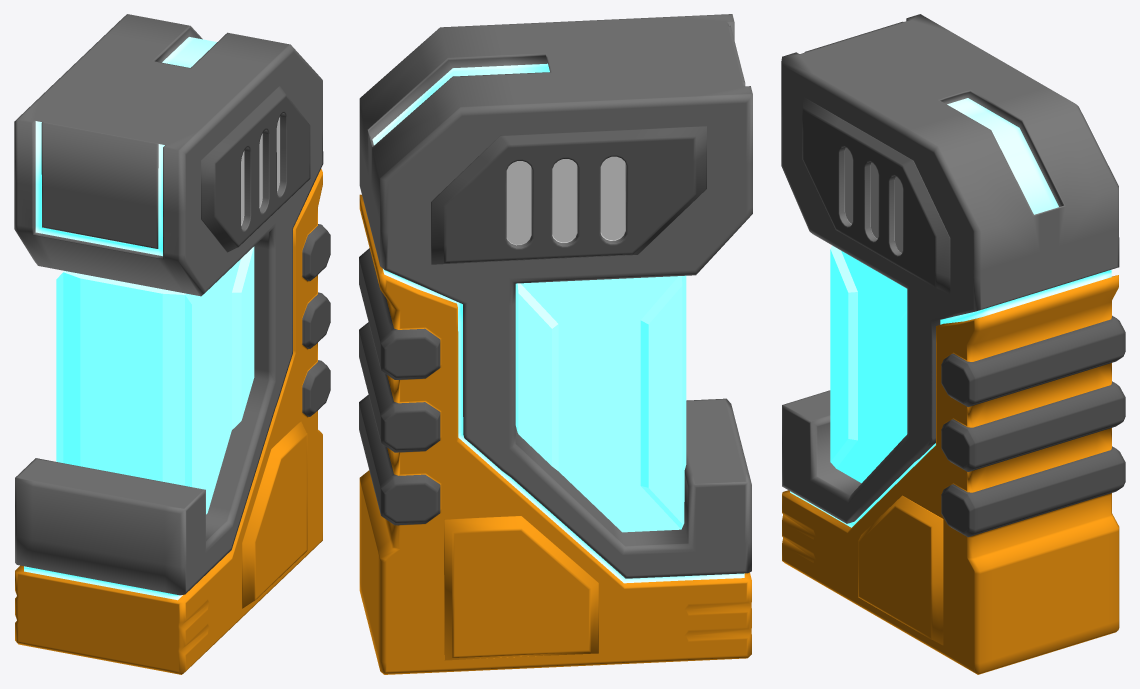
The model's file is energy cell .fbx.
3 renders of one model, left to right at view 1: azimuth 30°, elevation 25°; view 2: azimuth 150°, elevation 25°; view 3: azimuth 270°, elevation 25°, orthographic. The views are drawn at different scales.
Parts seen in each view (by area): view 1: Cube, Cube.001; view 2: Cube, Cube.001; view 3: Cube, Cube.001.
Boxes of the visible parts, x1,y1,x2,y2 form: Cube: (14, 14, 330, 674); Cube.001: (56, 246, 254, 514); Cube: (359, 14, 752, 674); Cube.001: (515, 275, 686, 532); Cube: (781, 14, 1125, 674); Cube.001: (830, 245, 907, 483).
Size of the model in its own units: 131 by 194 by 120.
